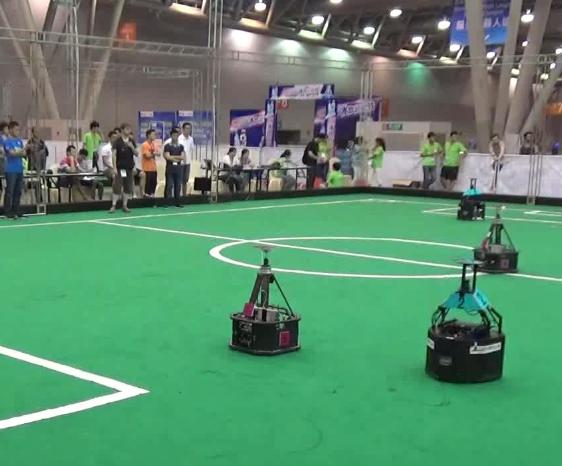robot: (423, 251, 507, 383), (227, 240, 303, 356)
